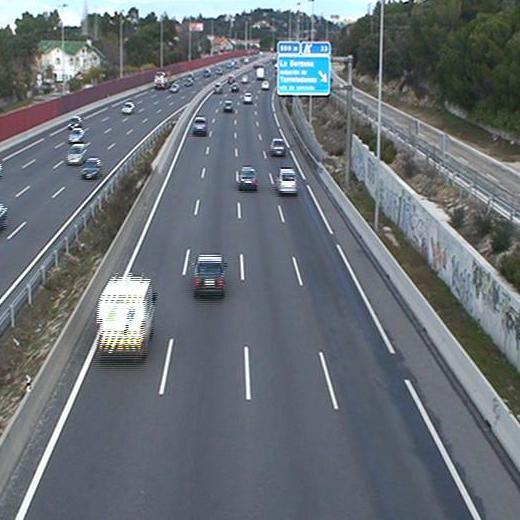car: (192, 253, 227, 293), (278, 167, 298, 193), (237, 166, 257, 187), (271, 138, 286, 154), (193, 117, 207, 131), (223, 99, 234, 111)
van: (94, 274, 155, 354)
